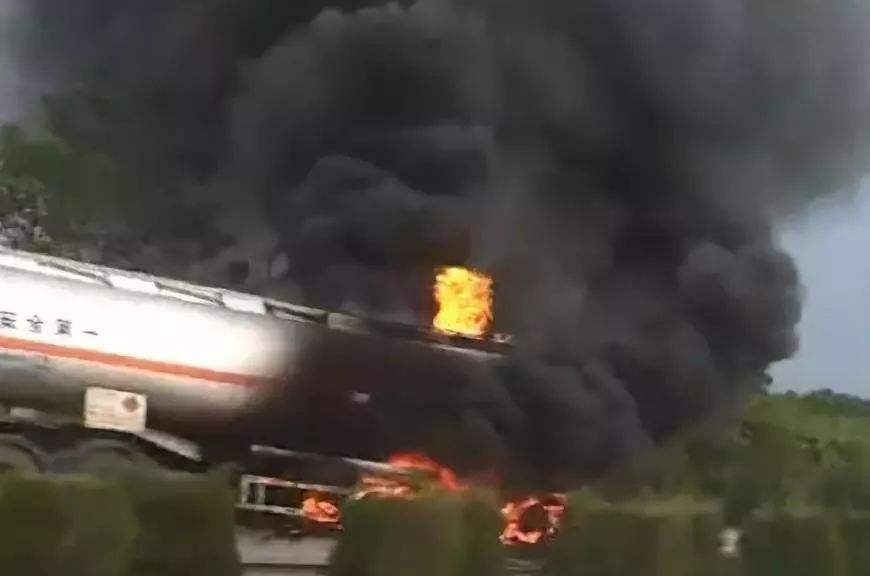fire: (305, 449, 573, 545), (426, 261, 500, 343)
